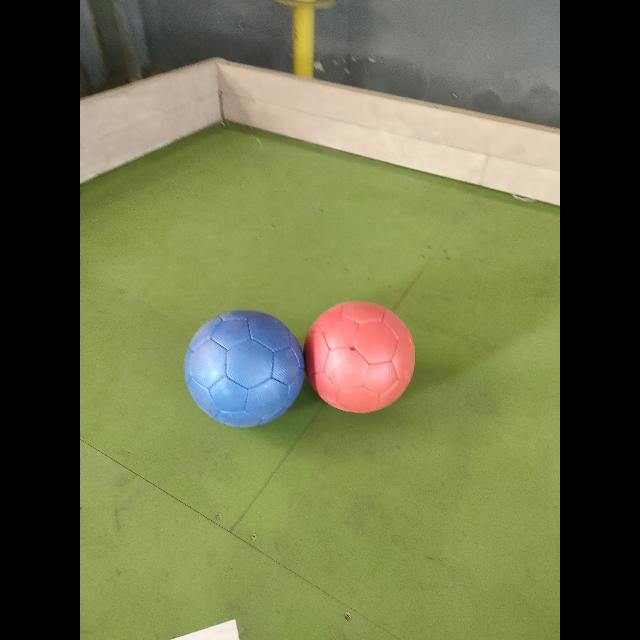B: (185, 310, 304, 428)
R: (305, 301, 415, 412)
